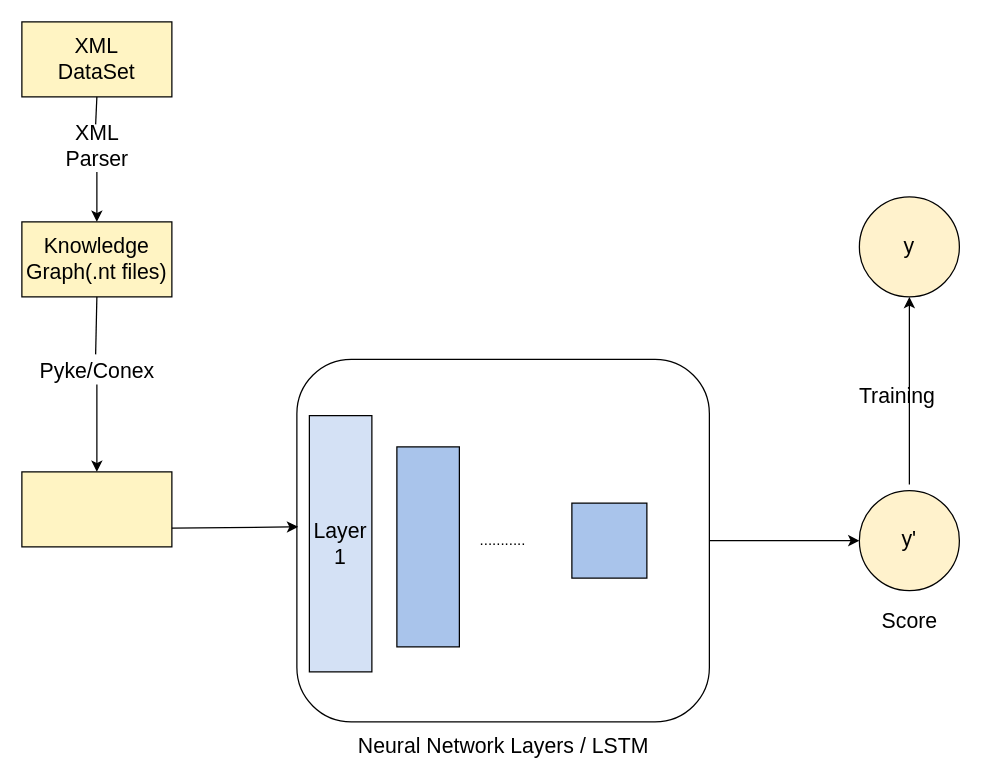
This 981x781 diagram has some shape labels left out. Here are the shapes that lost their labels. From the top down, the box of each, then its label:
(21, 471, 172, 547): Embedding Space
(396, 446, 459, 647): Layer 2
(571, 502, 647, 578): Layer n
